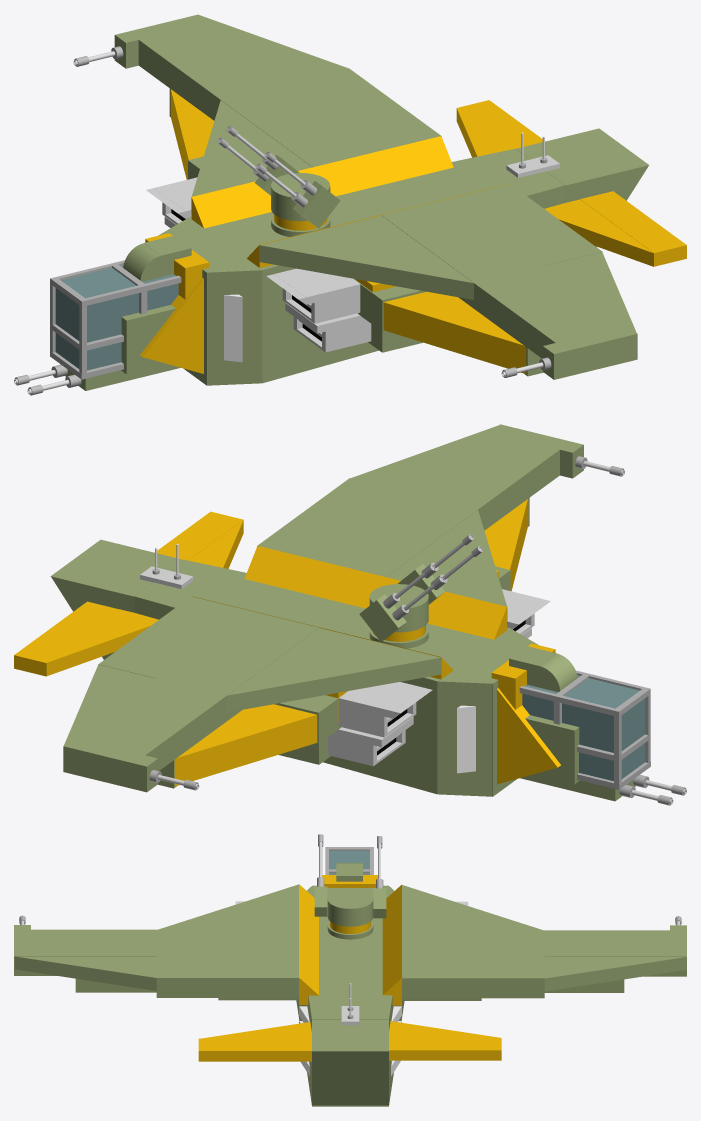
Rendered from pilot.glb.
3 views of the same model, one above another, from view 1: azimuth 30°, elevation 25°; view 2: azimuth 150°, elevation 25°; view 3: azimuth 270°, elevation 25° (orthographic). The views are drawn at different scales.
Parts seen in each view (by area): view 1: box (×25), wedge (×15), cylinder, quarterCylinder; view 2: box (×25), wedge (×15), cylinder, quarterCylinder; view 3: box (×16), wedge (×9), cylinder.
Part boxes in pixels (left/top/right/bottom): box (×25): left=55, top=14, right=686, bottom=390; wedge (×15): left=140, top=15, right=653, bottom=385; cylinder: left=271, top=173, right=330, bottom=221; quarterCylinder: left=123, top=243, right=160, bottom=281; box (×25): left=14, top=424, right=644, bottom=801; wedge (×15): left=46, top=425, right=560, bottom=796; cylinder: left=369, top=584, right=428, bottom=632; quarterCylinder: left=540, top=653, right=577, bottom=692; box (×16): left=14, top=851, right=686, bottom=1106; wedge (×9): left=15, top=884, right=686, bottom=1105; cylinder: left=327, top=889, right=373, bottom=926.
Size of the model in its own units: 562 by 190 by 708.
